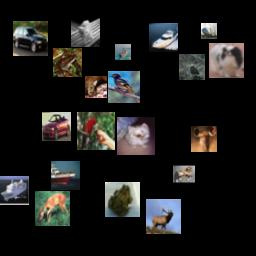airplane: (201, 23, 217, 39)
automobile: (13, 21, 48, 56), (42, 112, 71, 141)
bird: (77, 112, 115, 150), (108, 71, 140, 103), (179, 54, 205, 80)
cat: (117, 117, 155, 155), (71, 18, 100, 47), (85, 76, 107, 98)
deer: (35, 191, 70, 226), (146, 199, 181, 234), (191, 126, 217, 152)
dog: (209, 43, 244, 78)
frog: (105, 182, 140, 217), (53, 48, 82, 77)
ship: (51, 161, 80, 190), (149, 23, 178, 52), (0, 176, 29, 205), (115, 44, 131, 60)
